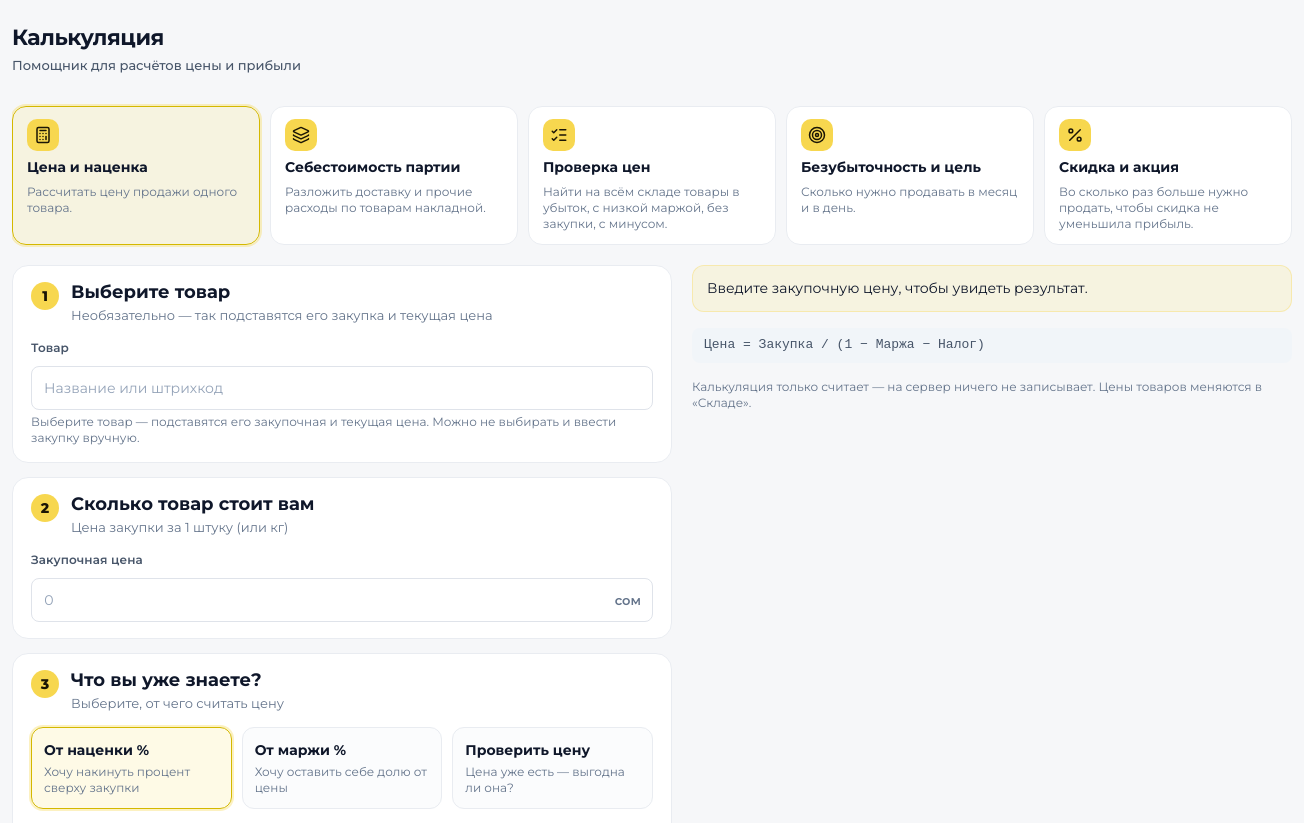
Scenario: поиск товара › стрелки и Enter выбирают из списка
In the dropdown labelled "Товар": x=342, y=388 left=31, top=366, right=653, bottom=410, type "mars"
Wait 400 ms
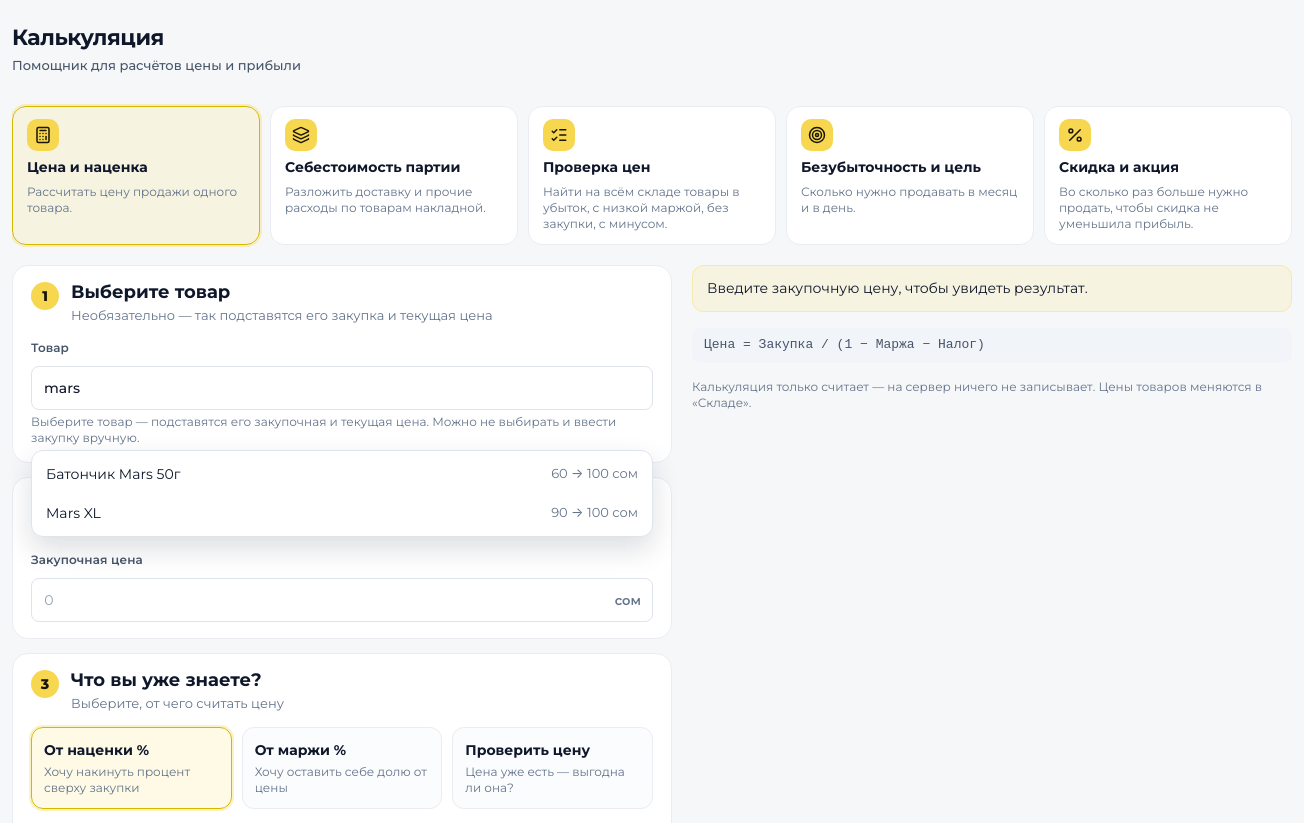
Press ArrowDown in the dropdown labelled "Товар", box left=31, top=366, right=653, bottom=410
Press ArrowDown in the dropdown labelled "Товар", box left=31, top=366, right=653, bottom=410
Press Enter in the dropdown labelled "Товар", box left=31, top=366, right=653, bottom=410
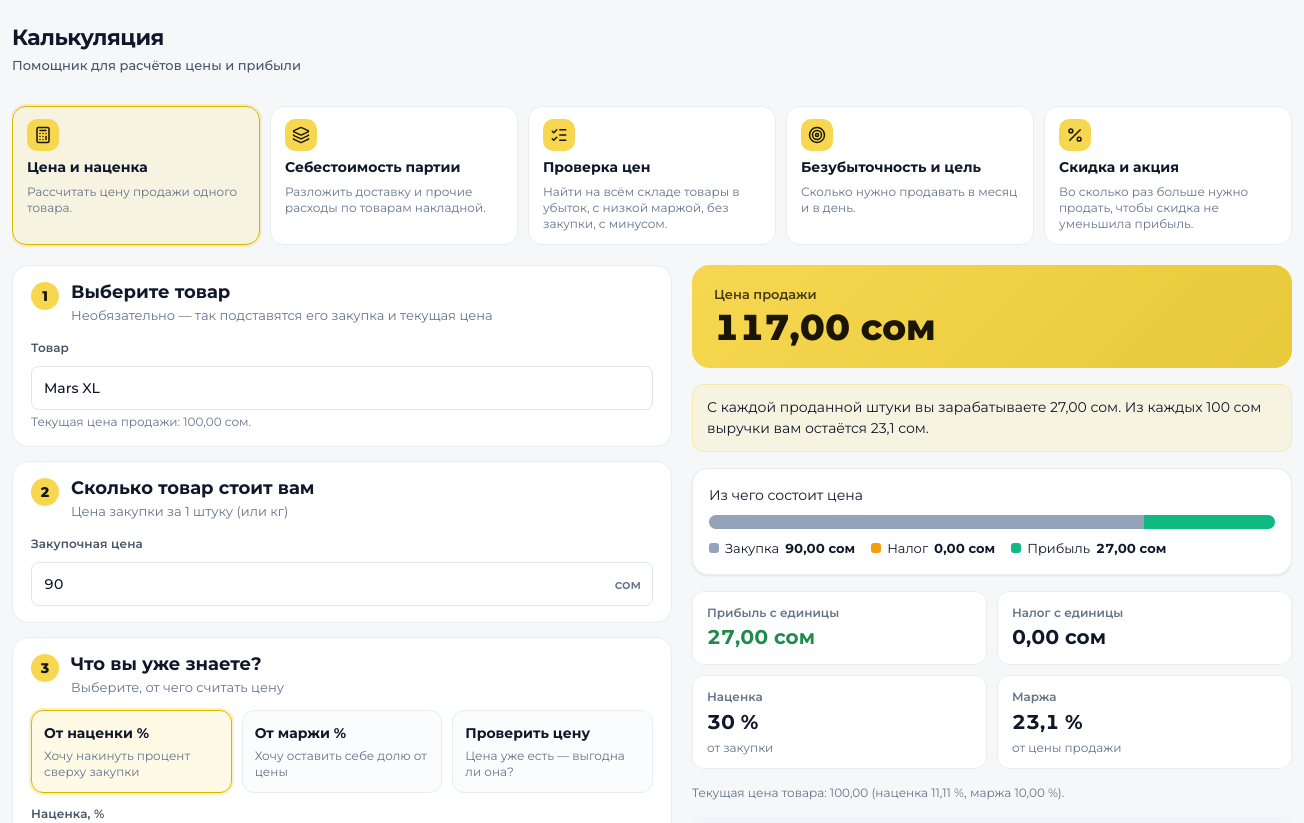
Expected: the field labelled "Закупочная цена" holds "90", left=31, top=562, right=653, bottom=606
